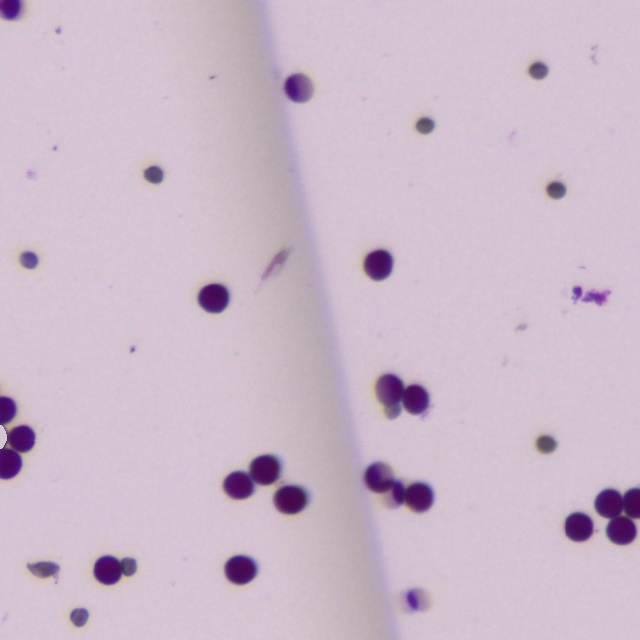intermediate: (401, 587, 430, 611), (20, 251, 38, 268)
non_viable: (536, 435, 556, 452), (528, 61, 547, 78), (144, 166, 162, 183), (120, 557, 136, 576), (416, 117, 434, 133)
viable: (378, 375, 403, 415), (366, 464, 400, 490), (225, 556, 256, 584), (198, 284, 228, 312), (363, 249, 391, 279), (275, 486, 305, 511), (283, 74, 310, 101), (95, 557, 123, 583), (251, 457, 278, 483), (597, 491, 624, 516), (608, 516, 634, 541), (566, 514, 591, 539), (403, 385, 427, 411), (406, 484, 430, 510), (225, 473, 252, 496), (0, 449, 20, 477), (7, 427, 32, 449), (623, 488, 638, 517), (0, 396, 15, 423), (69, 607, 88, 625)
